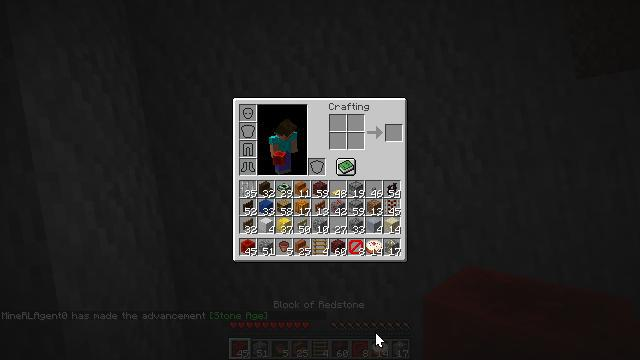cursor: (375, 332, 385, 348)
